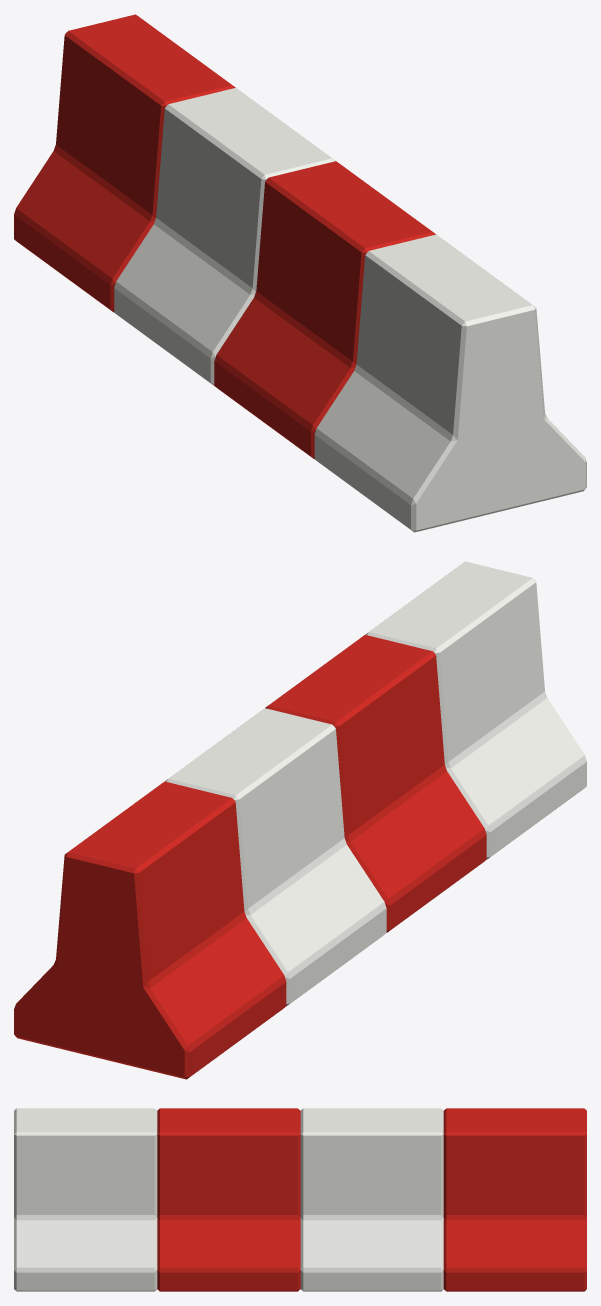
File: safety_barrier.glb
3 views of the same model, one above another, from view 1: azimuth 30°, elevation 25°; view 2: azimuth 150°, elevation 25°; view 3: azimuth 270°, elevation 25° (orthographic). The views are drawn at different scales.
Visible parts, largest first — view 1: Body.009; view 2: Body.009; view 3: Body.009.
Part boxes in pixels (<box>): Body.009: <box>14,14,586,532</box>; Body.009: <box>14,561,586,1079</box>; Body.009: <box>14,1108,586,1291</box>.
Bounding box in the file's own units: 0.76 × 0.82 × 3.
